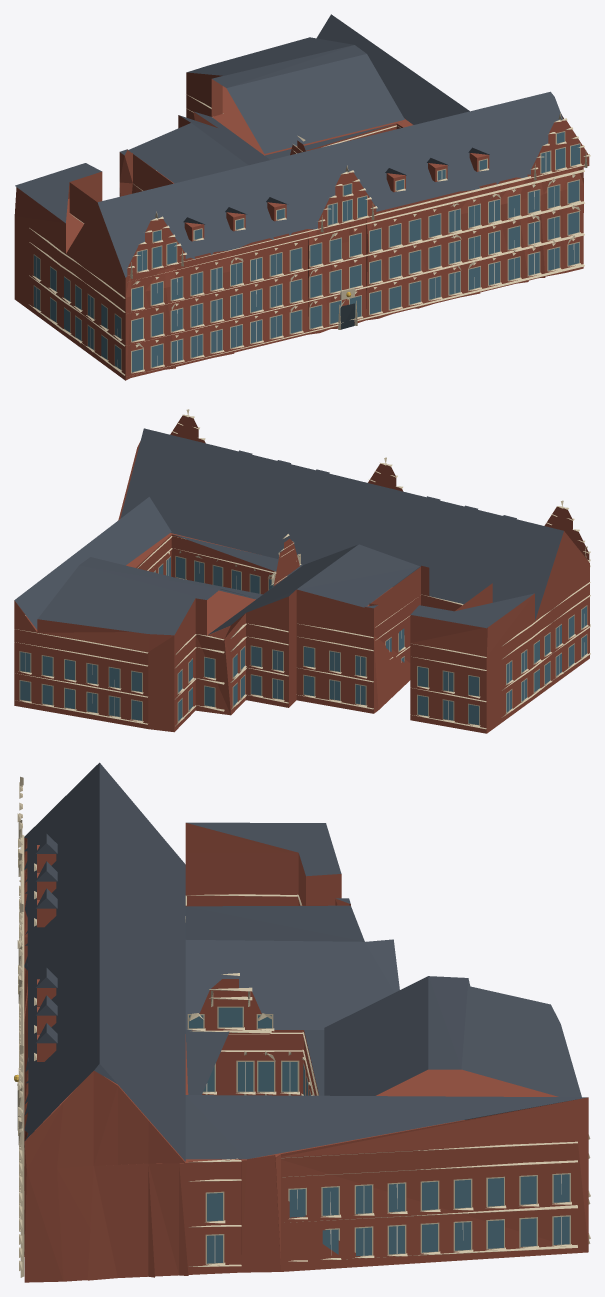
The model's file is oost-indisch-huis.lod1.glb.
3 views of the same model, one above another, from view 1: azimuth 30°, elevation 25°; view 2: azimuth 150°, elevation 25°; view 3: azimuth 270°, elevation 25° (orthographic). The views are drawn at different scales.
Parts seen in each view (by area): view 1: oost-indisch-huis; view 2: oost-indisch-huis; view 3: oost-indisch-huis.
Boxes of the visible parts, x1,y1,x2,y2 form: oost-indisch-huis: [14, 14, 590, 380]; oost-indisch-huis: [14, 409, 590, 733]; oost-indisch-huis: [14, 762, 590, 1282].
Size of the model in its own units: 66.05 by 21.95 by 51.97.
